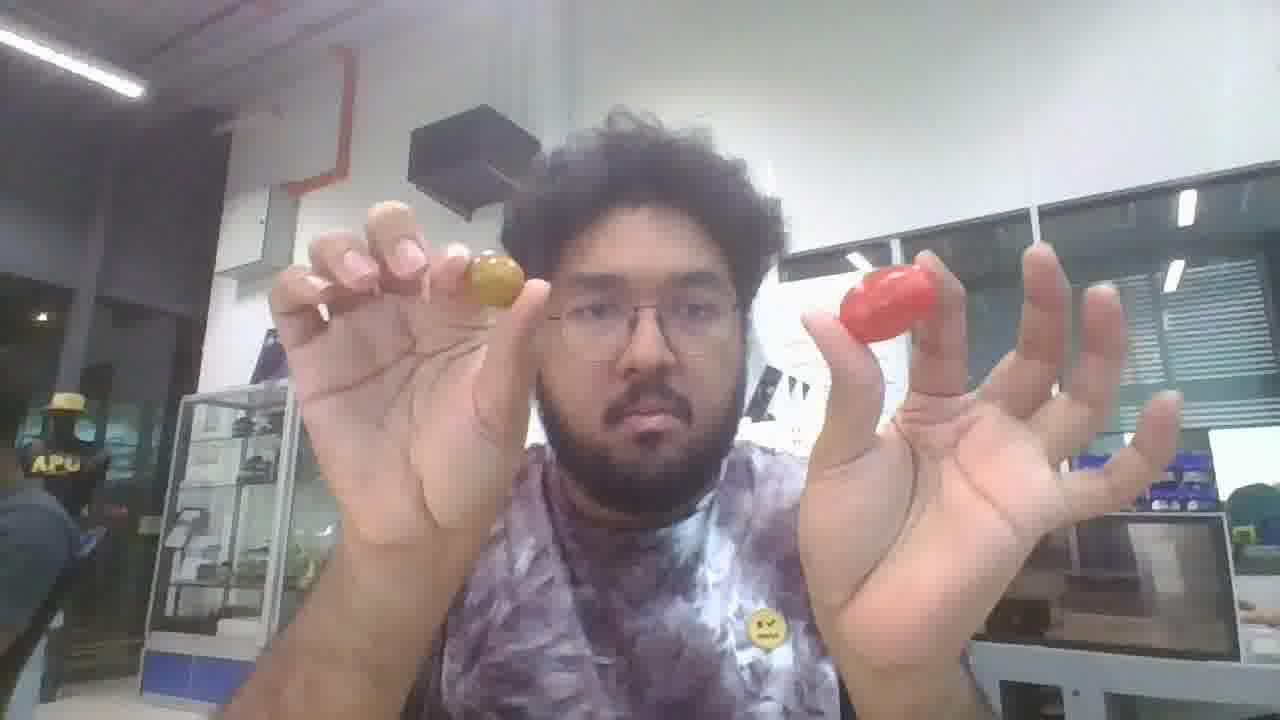red_cherry_tomato: (839, 265, 937, 342)
yellow_cherry_tomato: (466, 252, 524, 307)
